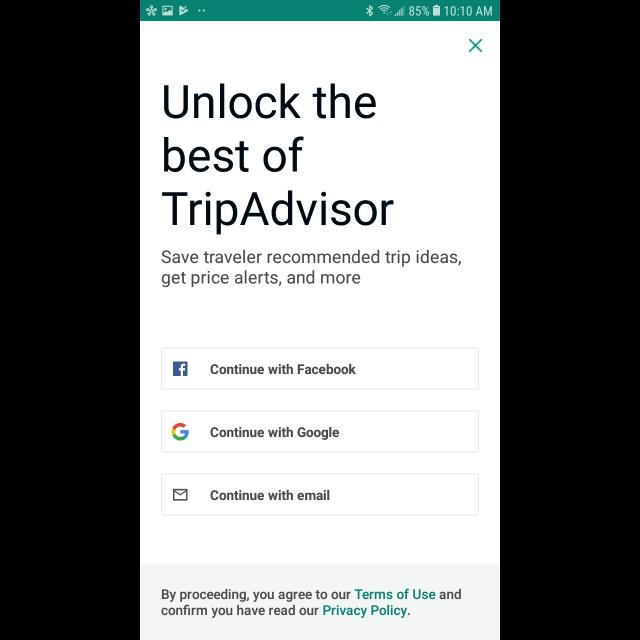icon: (469, 38, 483, 54)
text: (162, 84, 394, 236), (162, 248, 462, 288), (162, 589, 462, 619)
textbutton: (161, 348, 479, 390), (161, 411, 479, 453), (161, 474, 479, 516)
uppertaskbar: (140, 1, 500, 22)
